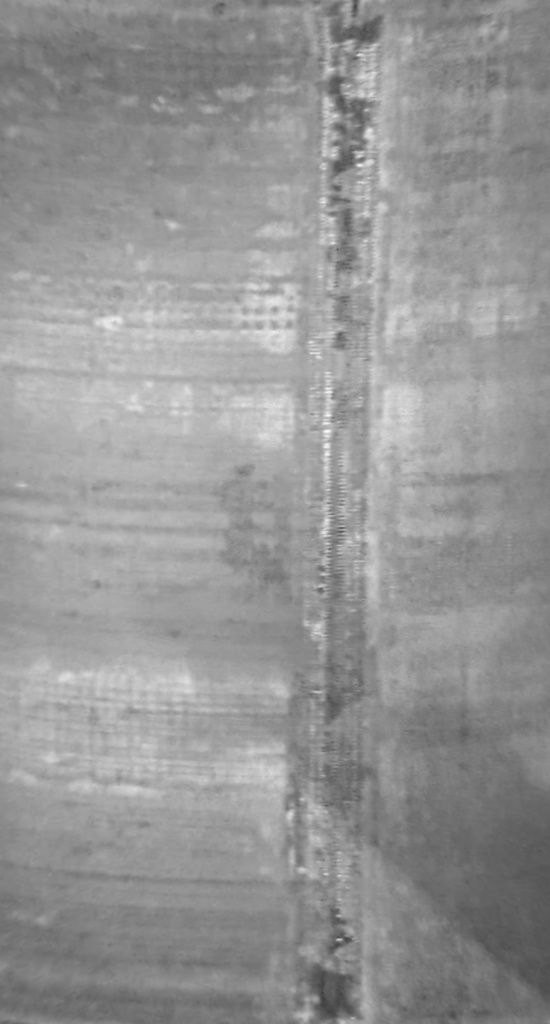splice: (294, 2, 391, 1023)
